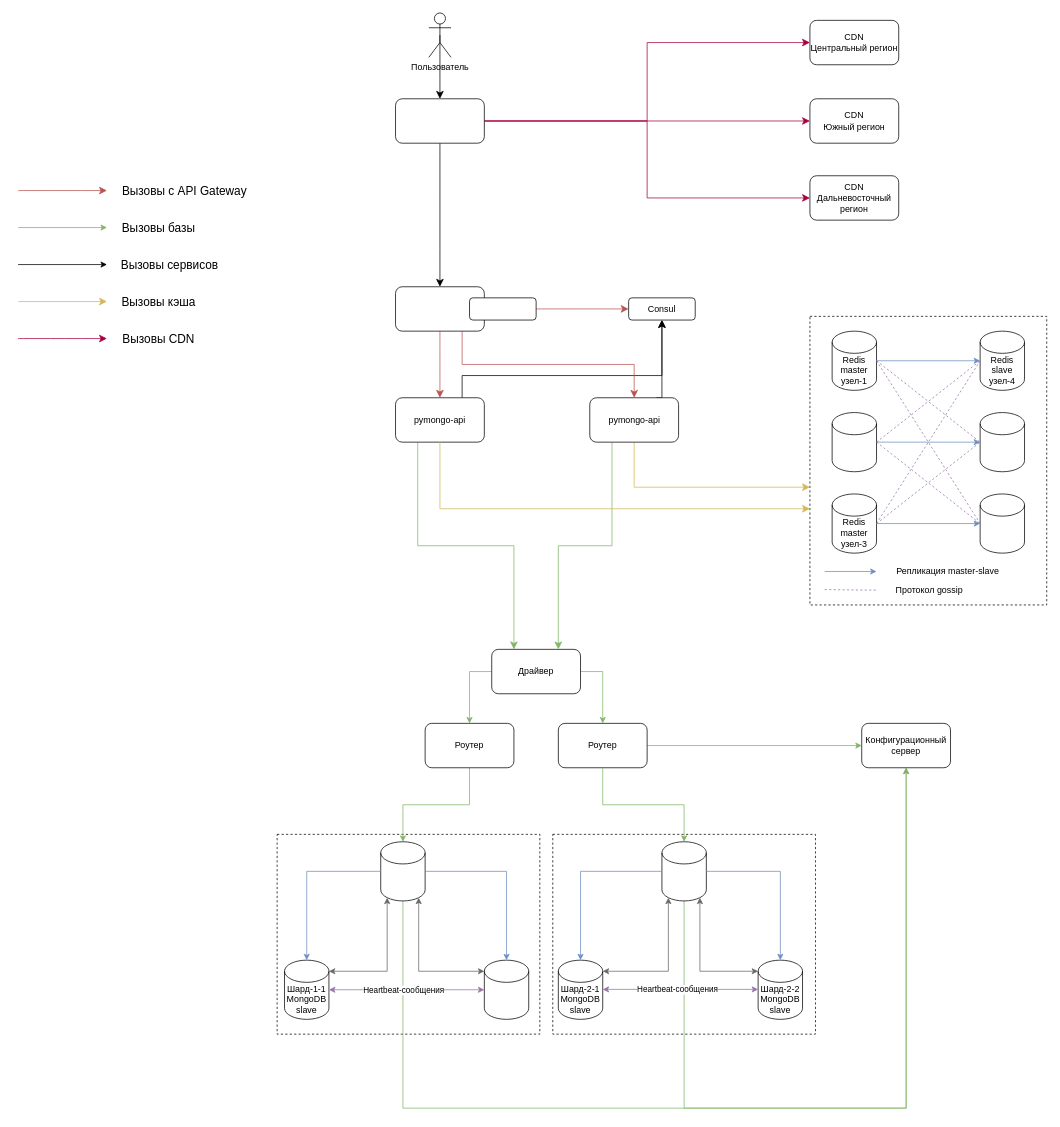
Some shapes in this 1060 by 1127 pixel diagram are drawn without their labels. The shapes that lost their labels are listed below. From the top down, each one's box as (x1, y1, x2, y2) in pixels, then its label:
(395, 98, 484, 143): Сайт React/Nginx
(395, 286, 484, 331): APISIX Gateway
(469, 297, 536, 320): consul_kv
(831, 412, 877, 472): Redis master узел-2
(979, 412, 1025, 472): Redis slave узел-5
(979, 493, 1025, 553): Redis slave узел-6
(380, 841, 425, 901): Шард-1 MongoDB master
(661, 841, 706, 901): Шард-2 MongoDB master
(484, 959, 529, 1019): Шард-1-2 MongoDB slave
